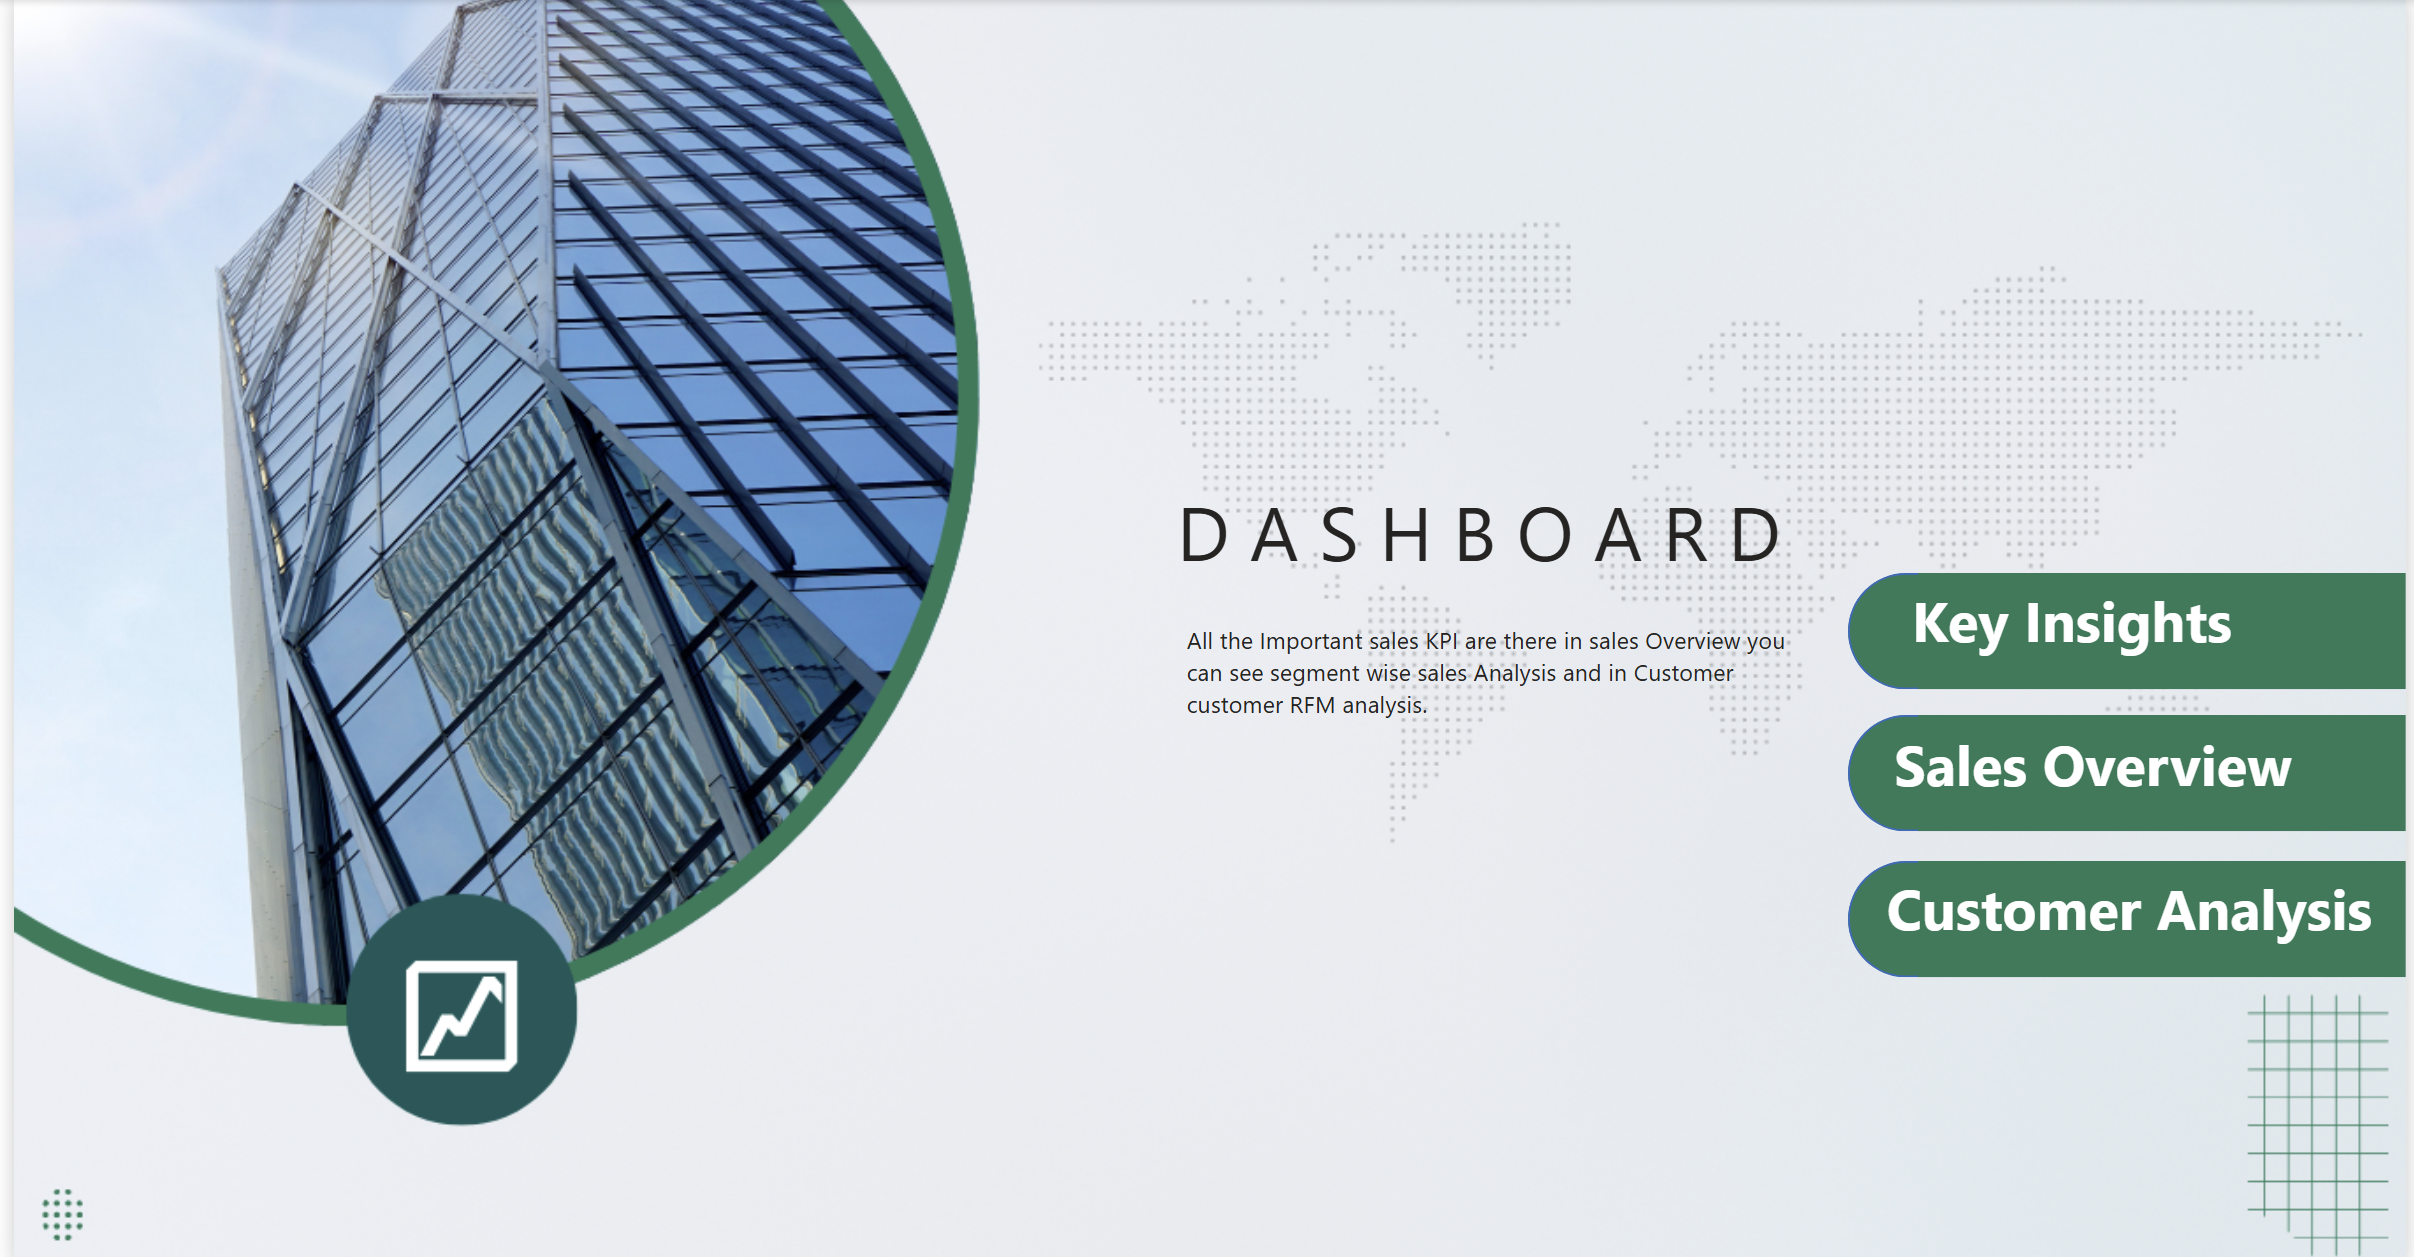

This screenshot's page, from the dashboard's own definition file:
{"tool":"powerbi","page":{"name":"Home","canvas":[1360,720],"ordinal":0},"visuals":[{"type":"textbox","box":[632.1,268.9,401.2,70.4],"z":0},{"type":"shape","box":[1043.2,326.6,316.8,66.2],"z":2000},{"type":"shape","box":[1082.7,326.6,277.3,66.2],"z":3000},{"type":"shape","box":[1043.2,489.7,316.8,66.2],"z":4000},{"type":"shape","box":[1043.2,407.7,316.8,66.2],"z":5000},{"type":"shape","box":[1082.7,407.7,277.3,66.2],"z":6000},{"type":"shape","box":[1082.7,489.9,277.3,66.2],"z":7000},{"type":"textbox","box":[1019.3,408.3,326.6,81.7],"z":8000},{"type":"textbox","box":[1043.2,326.6,254.8,81.7],"z":9000},{"type":"textbox","box":[1060.1,489.9,299.9,66.2],"z":10000},{"type":"textbox","box":[661.7,350.6,370.3,125.3],"z":11000},{"type":"actionButton","box":[1043.8,339.3,291.6,53.4],"z":12000},{"type":"actionButton","box":[1059.7,412.9,291.6,53.4],"z":13000},{"type":"actionButton","box":[1059.7,495.2,291.6,53.4],"z":14000}]}

Visuals, with their boxes in screenshot pixels (x1, y1, x2, y2), scaled from the page's 1360x720 canvas onto the 2414x1257 screenshot:
textbox: left=1122, top=469, right=1834, bottom=592
shape: left=1852, top=570, right=2413, bottom=686
shape: left=1922, top=570, right=2413, bottom=686
shape: left=1852, top=855, right=2413, bottom=971
shape: left=1852, top=712, right=2413, bottom=827
shape: left=1922, top=712, right=2413, bottom=827
shape: left=1922, top=855, right=2413, bottom=971
textbox: left=1809, top=713, right=2389, bottom=855
textbox: left=1852, top=570, right=2304, bottom=713
textbox: left=1882, top=855, right=2413, bottom=971
textbox: left=1175, top=612, right=1832, bottom=831
actionButton: left=1853, top=592, right=2370, bottom=686
actionButton: left=1881, top=721, right=2399, bottom=814
actionButton: left=1881, top=865, right=2399, bottom=958
